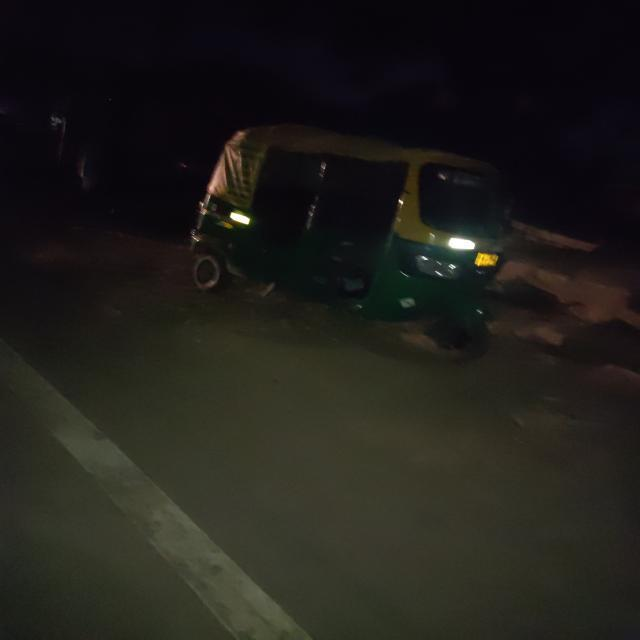auto_front: (176, 113, 523, 364)
